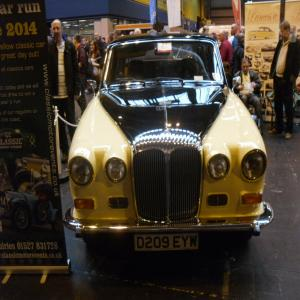Vehicle-registration-plate: (135, 234, 199, 252)
